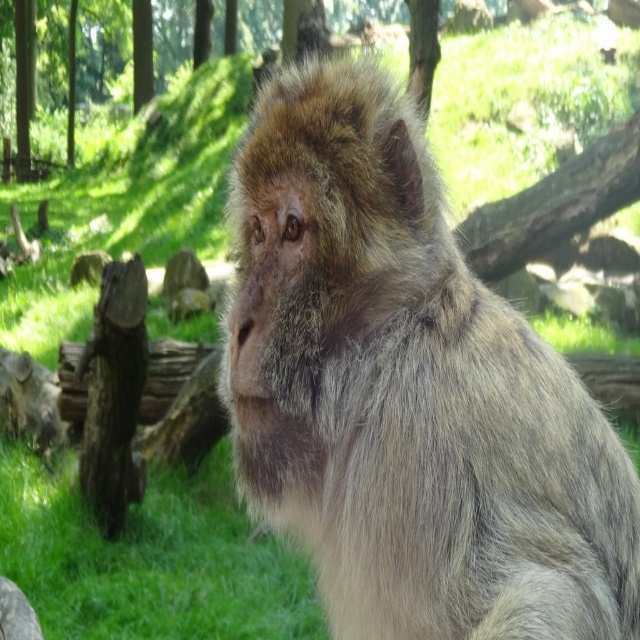Monkey: (217, 43, 640, 639)
